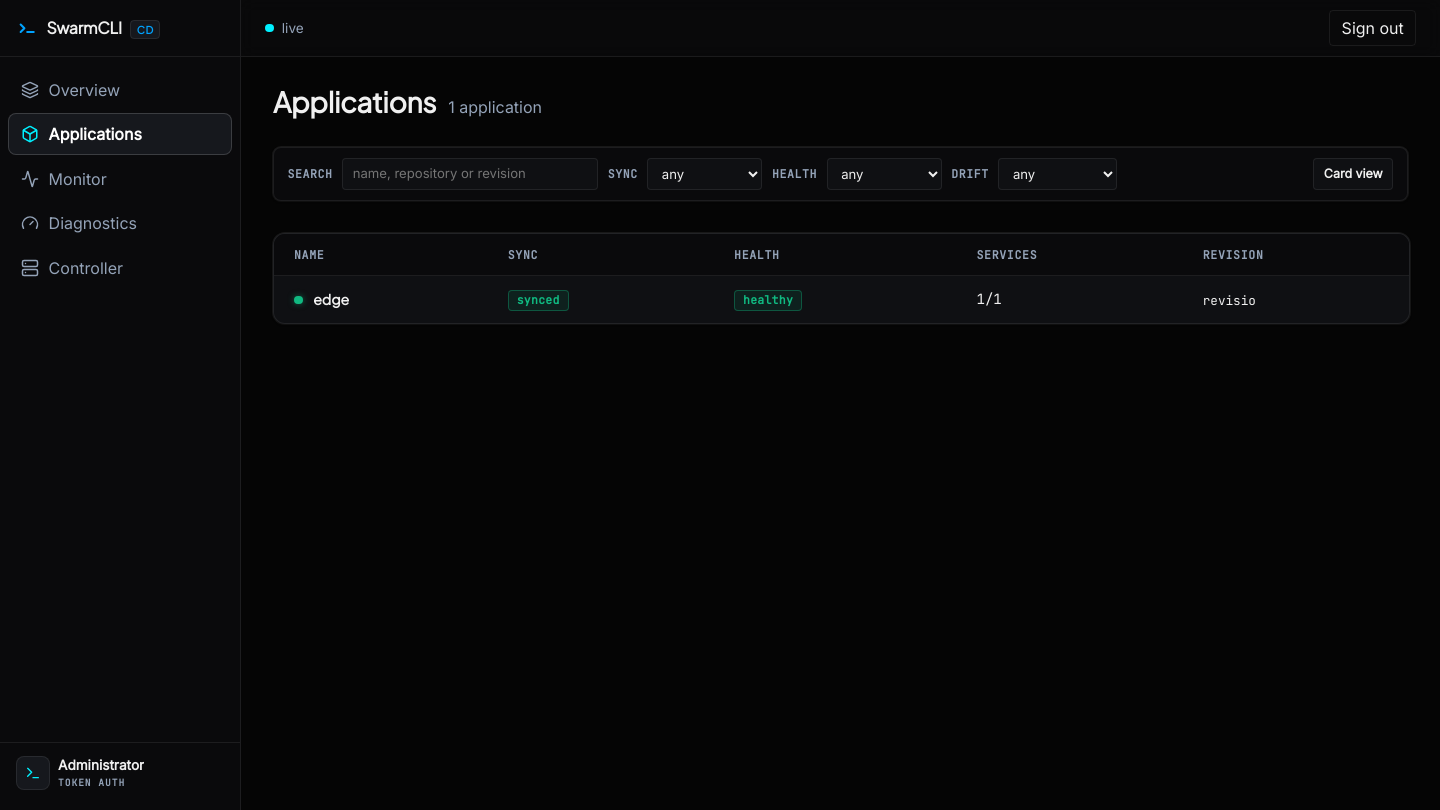
Test: the fleet overview › names an unwired application set as unwired, never as static
Expected: the text "1 application" is shown, [448,95,542,119]
Click the link "Overview": [71, 90] box [21,80,120,100]
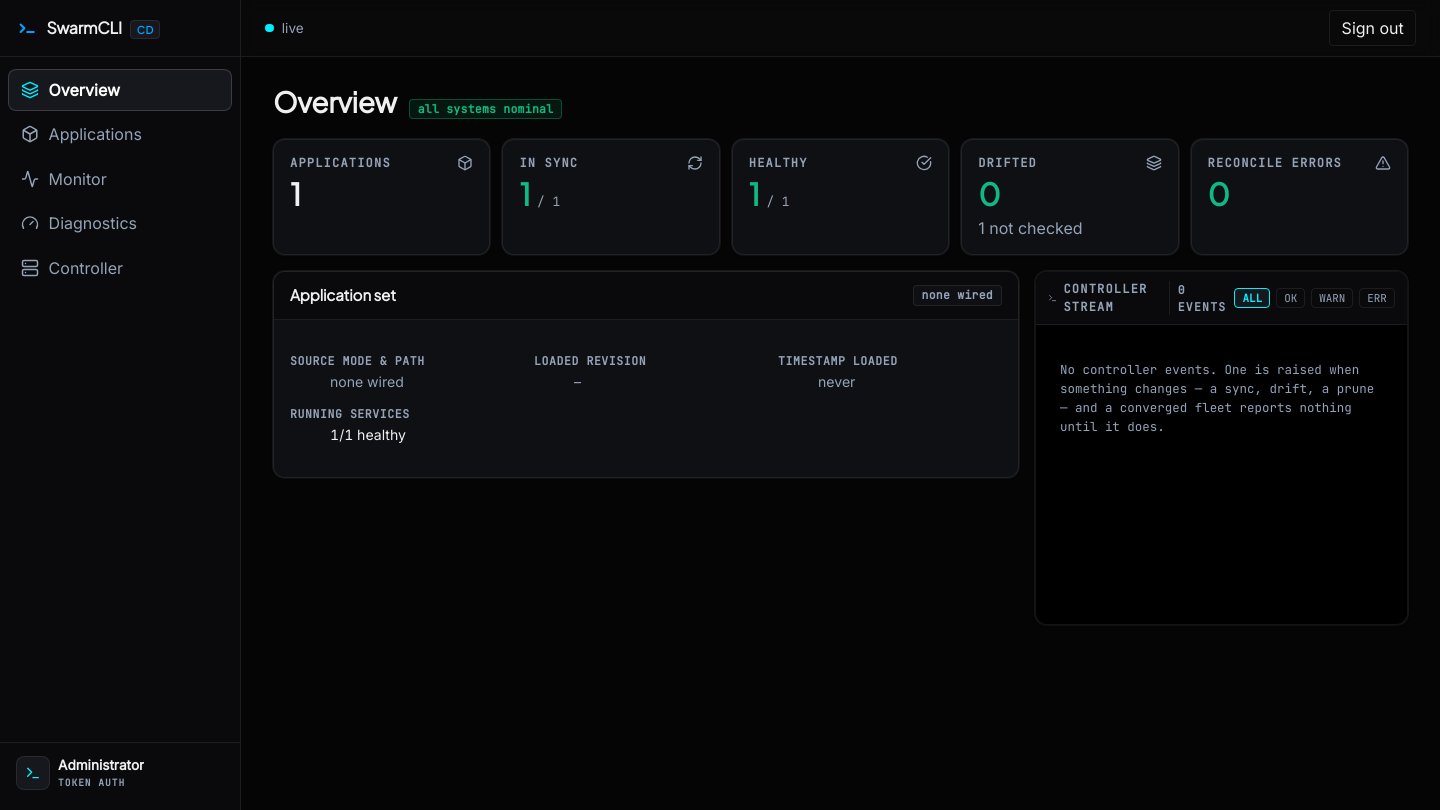
Result: the heading "Overview" is shown at [273,81,397,123]
Result: the text "none wired" in the row of "Application set" is shown at [922,288,993,302]
